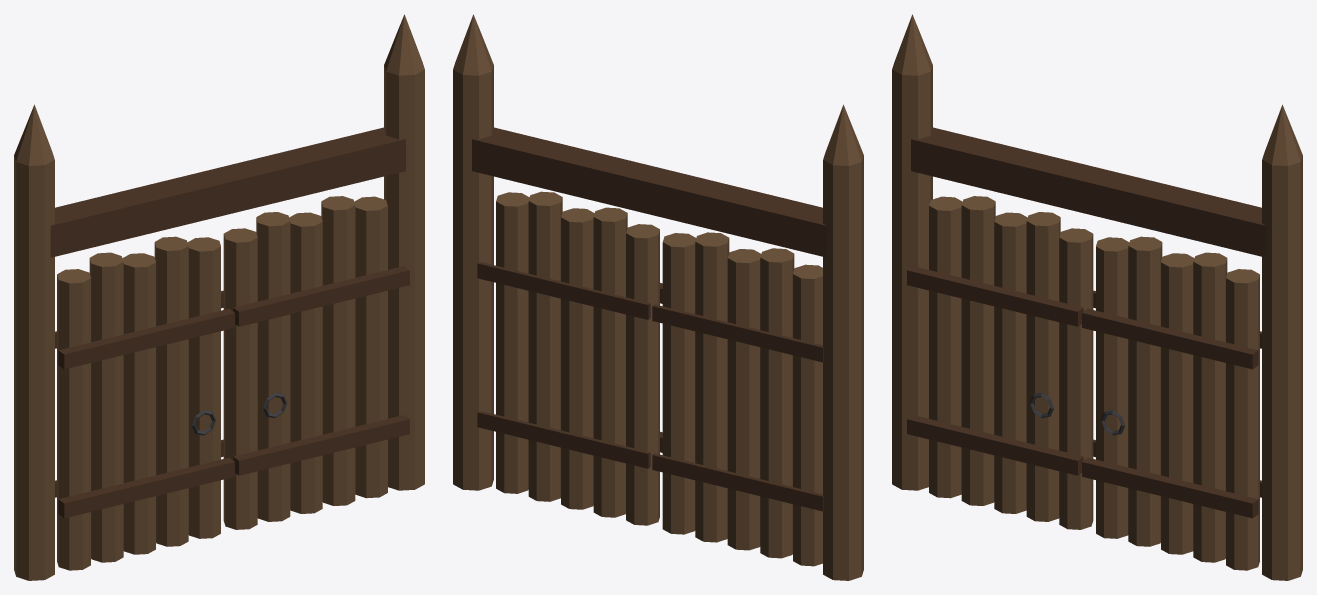
File: palisade_gate_lod0.glb
3 views of the same model, side by side, from view 1: azimuth 30°, elevation 25°; view 2: azimuth 150°, elevation 25°; view 3: azimuth 330°, elevation 25° (orthographic).
Parts seen in each view (by area): view 1: palisade_gate; view 2: palisade_gate; view 3: palisade_gate.
Part boxes in pixels (bbox=[...]): palisade_gate: bbox=[14, 14, 424, 580]; palisade_gate: bbox=[453, 14, 863, 580]; palisade_gate: bbox=[892, 14, 1302, 580].
Size of the model in its own units: 4 by 4.4 by 0.54.
